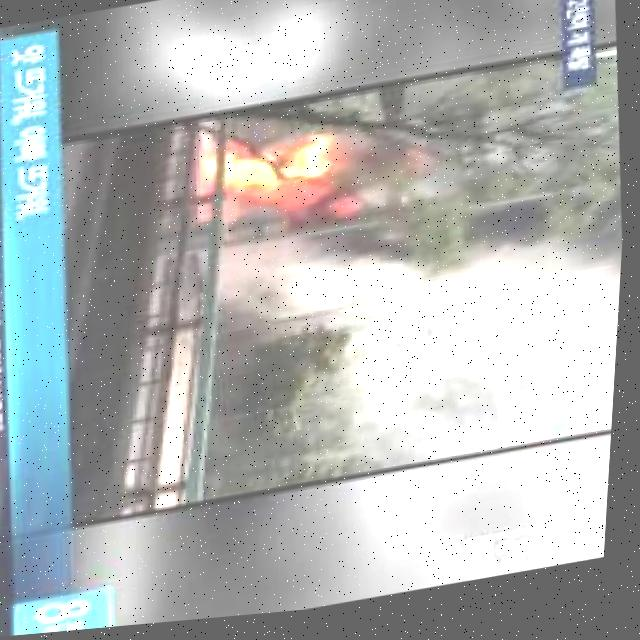Fire: (186, 111, 421, 256), (187, 126, 323, 226)
Smoke: (214, 201, 629, 493)
